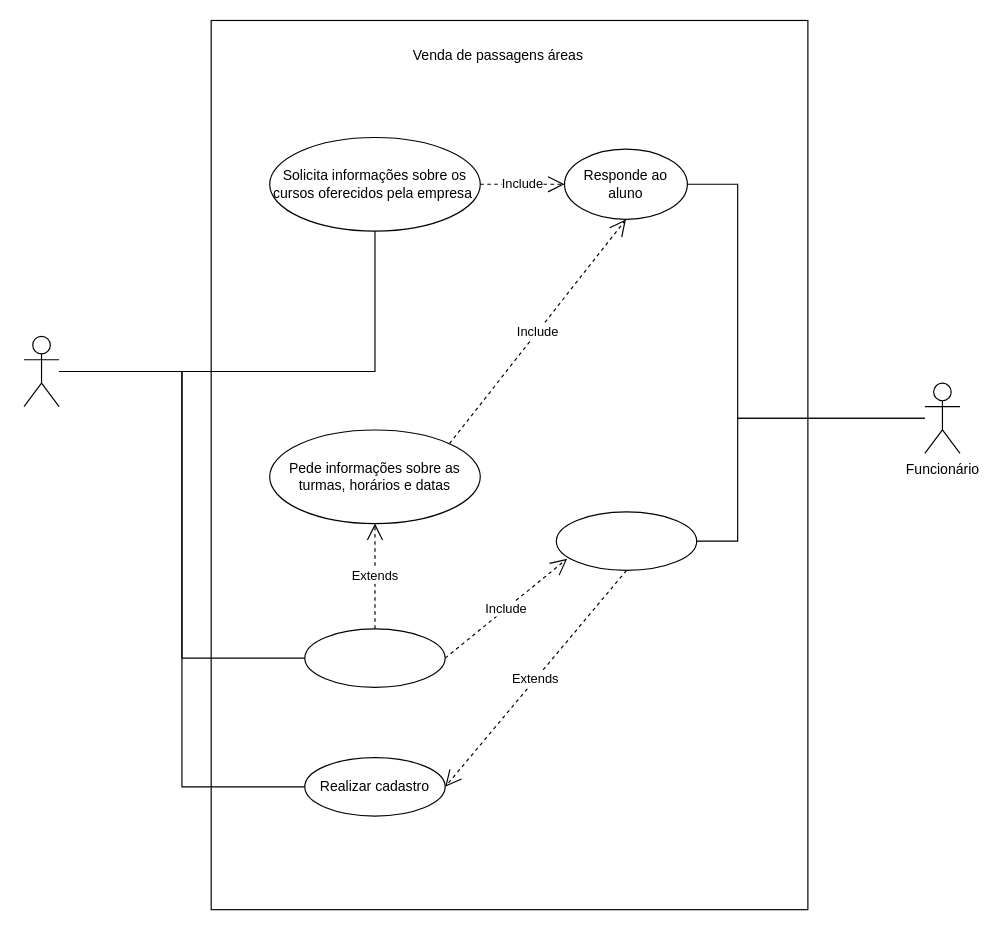
The diagram is 999 pixels wide and 930 high, and some of its shapes have lost their labels. The shapes that lost their labels are listed below. From the top down, each one's box as (x1, y1, x2, y2) in pixels, then its label:
(23, 335, 59, 407): Cliente
(555, 511, 697, 570): Perguntar se já tem cadastro
(304, 628, 445, 687): Realizar matrícula
